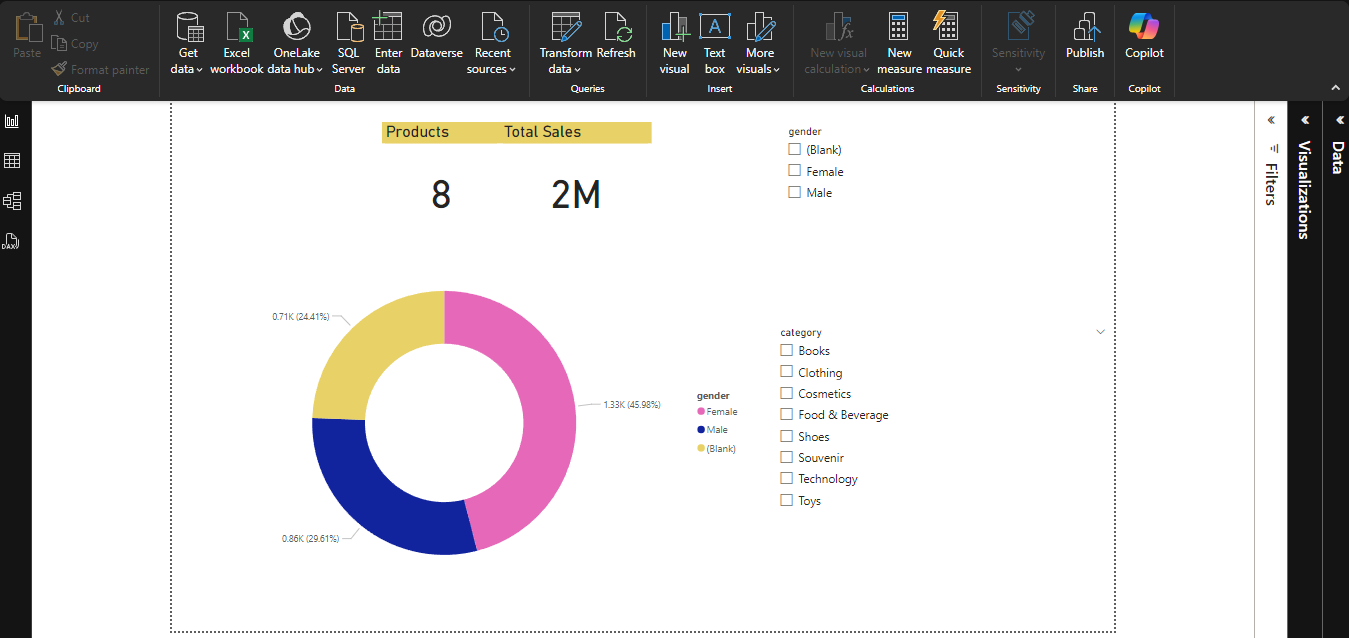

This screenshot's page, from the dashboard's own definition file:
{"tool":"powerbi","page":{"name":"Page 1","canvas":[1280,720],"ordinal":0},"visuals":[{"type":"card","title":"Products","fields":{"Values":["Count(sales.category)"]},"box":[284.9,28.9,161,156.9],"z":0},{"type":"card","title":"Total Sales","fields":{"Values":["Sum(sales.price)"]},"box":[445.9,28.9,206.5,156.9],"z":1},{"type":"donutChart","fields":{"Category":["customer.gender"],"Y":["CountNonNull(sales.category)"]},"box":[22,185.8,761.1,502.4],"z":2},{"type":"slicer","fields":{"Values":["sales.category"]},"box":[813.4,301.4,466.6,418.4],"z":3},{"type":"slicer","fields":{"Values":["customer.gender"]},"box":[824.4,28.9,455.6,272.5],"z":4}]}

Visuals, with their boxes on the page's 1280x720 design canvas (x1, y1, x2, y2). These are canvas units, not pixel positions in the 1349x638 screenshot, which may show the page scaled, cropped or inside an application window:
"Products" card: locate(285, 29, 446, 186)
"Total Sales" card: locate(446, 29, 652, 186)
donutChart - customer.gender x CountNonNull(sales.category): locate(22, 186, 783, 688)
slicer - sales.category: locate(813, 301, 1280, 720)
slicer - customer.gender: locate(824, 29, 1280, 301)
